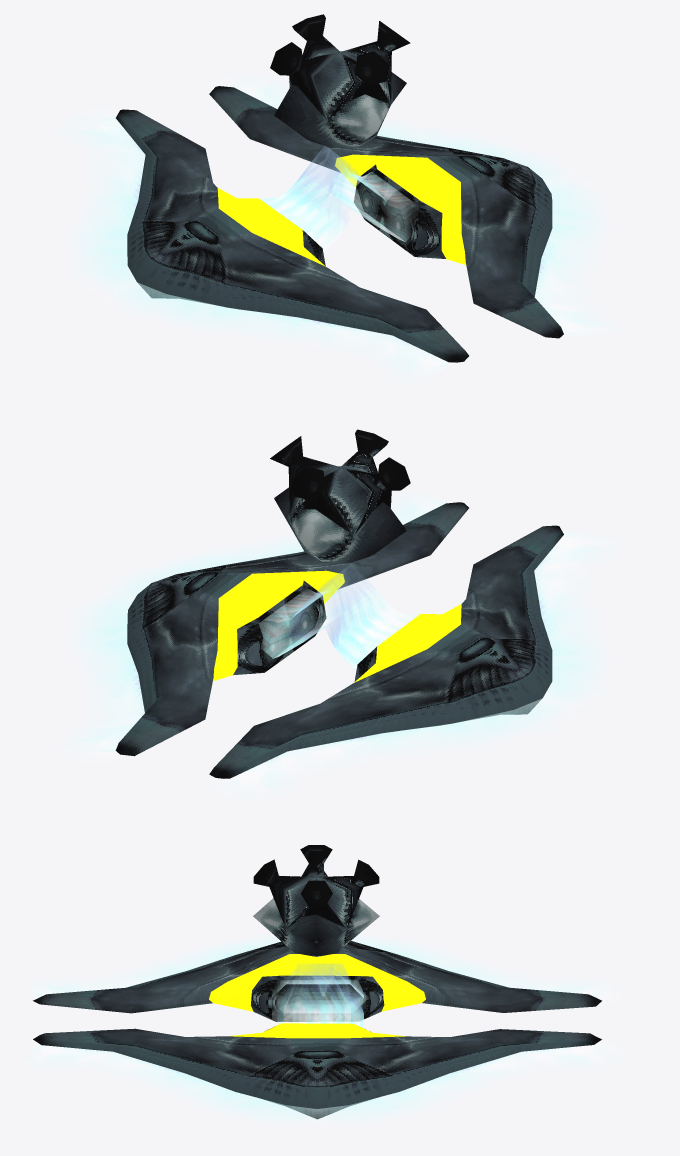
The model's file is sshydrofoil_cmp.gltf.
The picture shows the model from 3 angles, top to bottom: view 1: azimuth 30°, elevation 25°; view 2: azimuth 150°, elevation 25°; view 3: azimuth 270°, elevation 25°; orthographic projection. The views are drawn at different scales.
Parts seen in each view (by area): view 1: Root; view 2: Root; view 3: Root.
Part boxes in pixels (x1,y1,x2,y2): Root: (75, 14, 604, 376); Root: (74, 429, 606, 792); Root: (29, 845, 611, 1122).
Size of the model in its own units: 16.39 by 6.24 by 20.41.
Materials: 4 (4 with a texture image).
